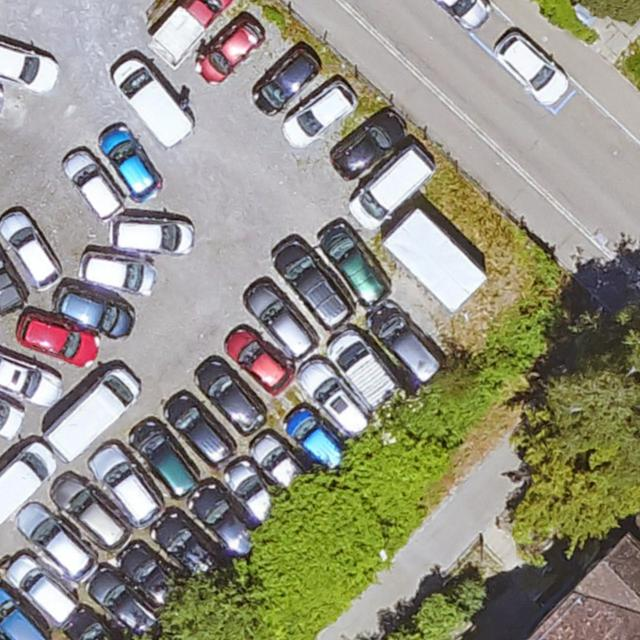tree: (513, 361, 640, 545), (142, 575, 267, 640)
